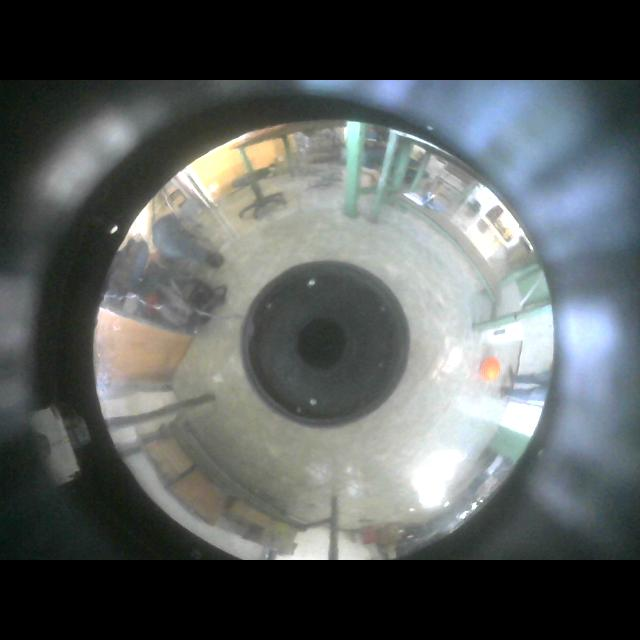bola: (480, 358, 500, 382)
